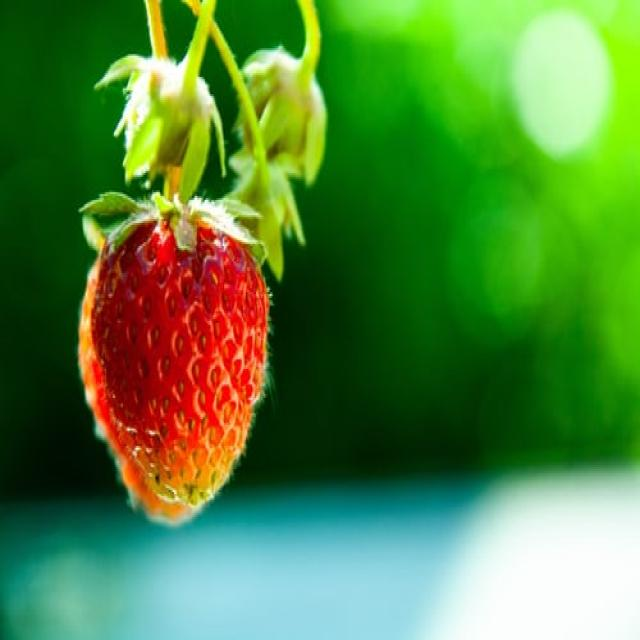mature: (91, 218, 269, 507)
